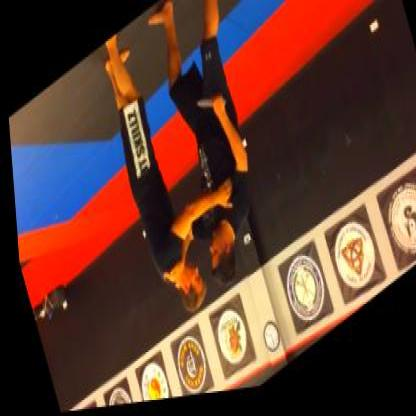knife: (192, 87, 225, 128)
